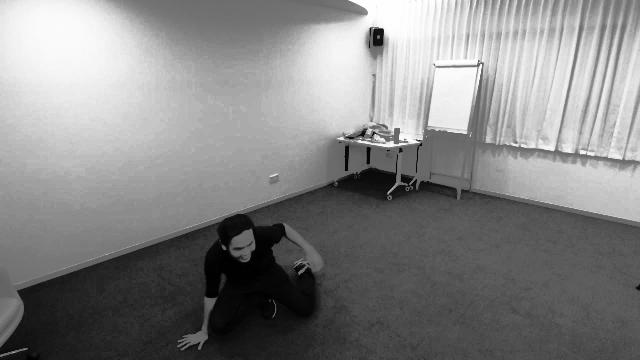jatuh: (165, 209, 332, 358)
